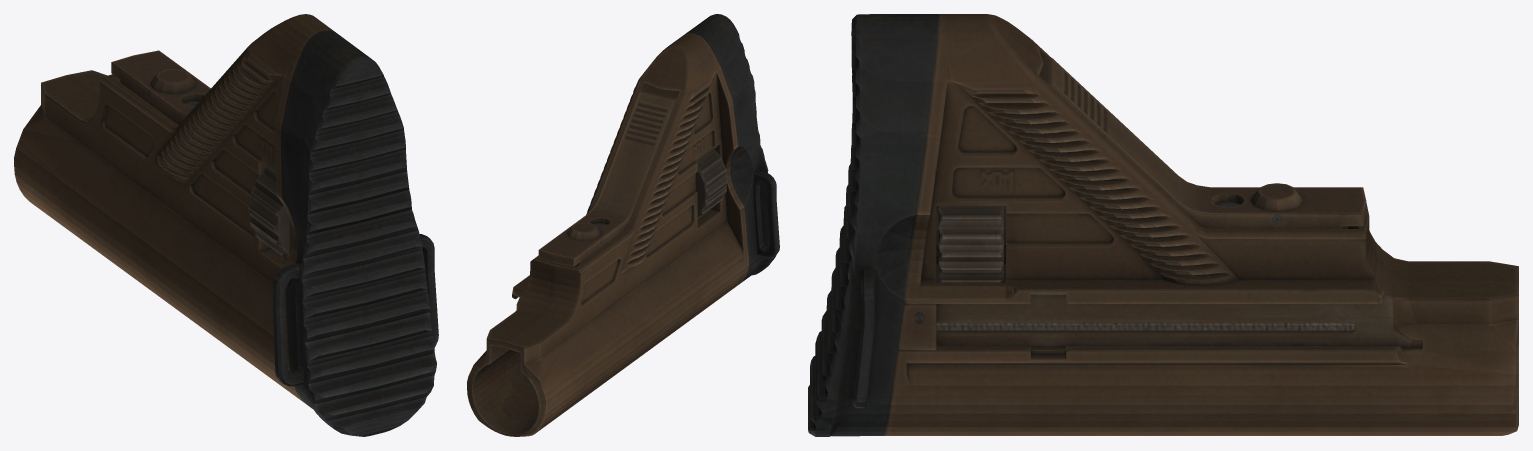
3 renders of one model, left to right at view 1: azimuth 30°, elevation 25°; view 2: azimuth 150°, elevation 25°; view 3: azimuth 270°, elevation 25°, orthographic. The views are drawn at different scales.
Visible parts, largest first — view 1: TW_617155ee50224f204c1da3cd_PZ_Import; view 2: TW_617155ee50224f204c1da3cd_PZ_Import; view 3: TW_617155ee50224f204c1da3cd_PZ_Import.
Boxes of the visible parts, x1,y1,x2,y2 form: TW_617155ee50224f204c1da3cd_PZ_Import: [14, 14, 438, 436]; TW_617155ee50224f204c1da3cd_PZ_Import: [467, 14, 779, 436]; TW_617155ee50224f204c1da3cd_PZ_Import: [808, 14, 1518, 436].
Size of the model in its own units: 0.0359 by 0.1217 by 0.078.
1 material, 1 textured.
